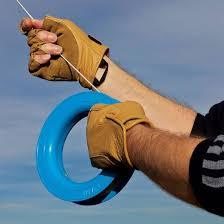gloves: (20, 14, 110, 90), (86, 100, 151, 170)
